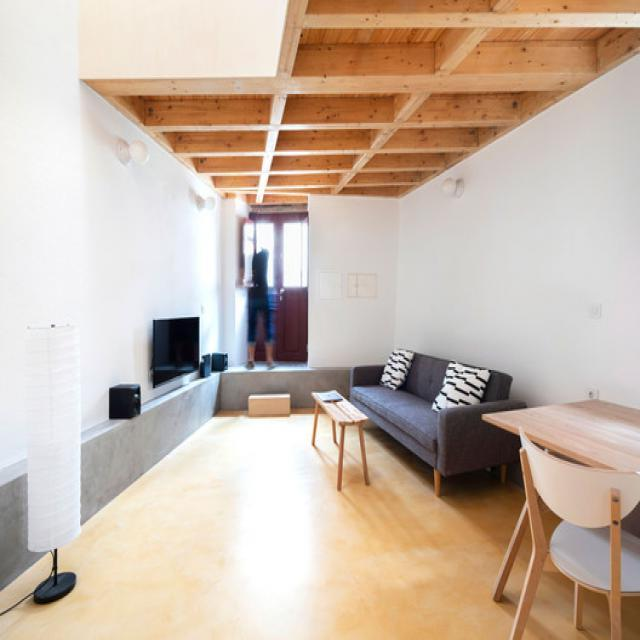couch: (350, 349, 527, 497)
